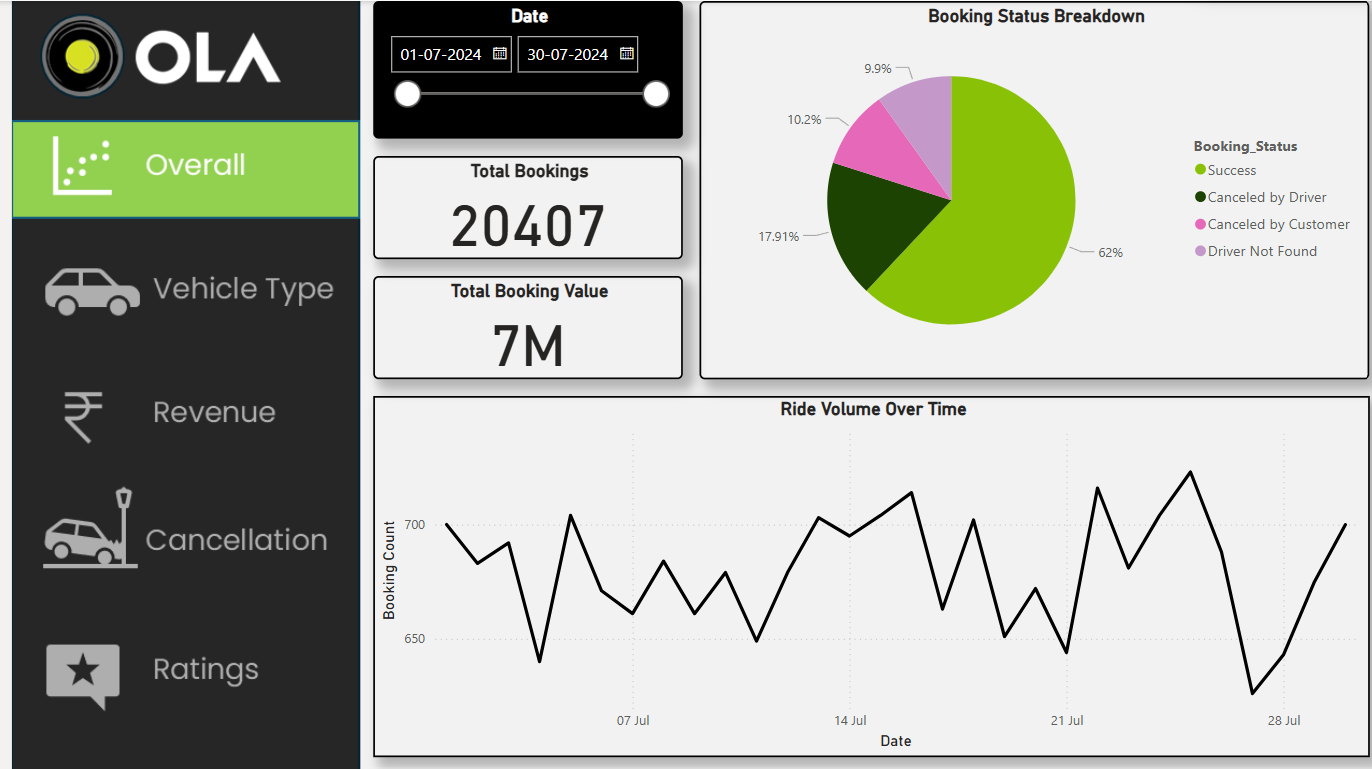

The dashboard page shown, as its layout file describes it:
{"tool":"powerbi","page":{"name":"Overall","canvas":[1280,720],"ordinal":0},"visuals":[{"type":"actionButton","box":[0,208,320,96],"z":0},{"type":"actionButton","box":[0,336,320,96],"z":1000},{"type":"actionButton","box":[0,464,320,80],"z":2000},{"type":"actionButton","box":[0,592,320,80],"z":3000},{"type":"actionButton","box":[0,112,320,80],"z":4000},{"type":"lineChart","title":"Ride Volume Over Time","fields":{"Y":["CountNonNull(ola bookings.Booking_ID)"],"Category":["ola bookings.Date"]},"box":[336,368,928,336],"z":5000},{"type":"pieChart","title":"Booking Status Breakdown","fields":{"Category":["ola bookings.Booking_Status"],"Y":["CountNonNull(ola bookings.Booking_Status)"]},"box":[640,0,624,352],"z":6000},{"type":"slicer","title":"Date","fields":{"Values":["ola bookings.Date"]},"box":[336,0,288,128],"z":7000},{"type":"card","title":"Total Booking Value","fields":{"Values":["Sum(ola bookings.Booking_Value)"]},"box":[336,256,288,96],"z":8000},{"type":"card","title":"Total Bookings","fields":{"Values":["CountNonNull(ola bookings.Booking_ID)"]},"box":[336,144,288,96],"z":9000}]}

Visuals, with their boxes in screenshot pixels (x1, y1, x2, y2), scaled from the page's 1280x720 canvas onto the 1372x769 screenshot:
actionButton: [x1=0, y1=222, x2=343, y2=325]
actionButton: [x1=0, y1=359, x2=343, y2=461]
actionButton: [x1=0, y1=496, x2=343, y2=581]
actionButton: [x1=0, y1=632, x2=343, y2=718]
actionButton: [x1=0, y1=120, x2=343, y2=205]
"Ride Volume Over Time" lineChart: [x1=360, y1=393, x2=1355, y2=752]
"Booking Status Breakdown" pieChart: [x1=686, y1=0, x2=1355, y2=376]
"Date" slicer: [x1=360, y1=0, x2=669, y2=137]
"Total Booking Value" card: [x1=360, y1=273, x2=669, y2=376]
"Total Bookings" card: [x1=360, y1=154, x2=669, y2=256]
